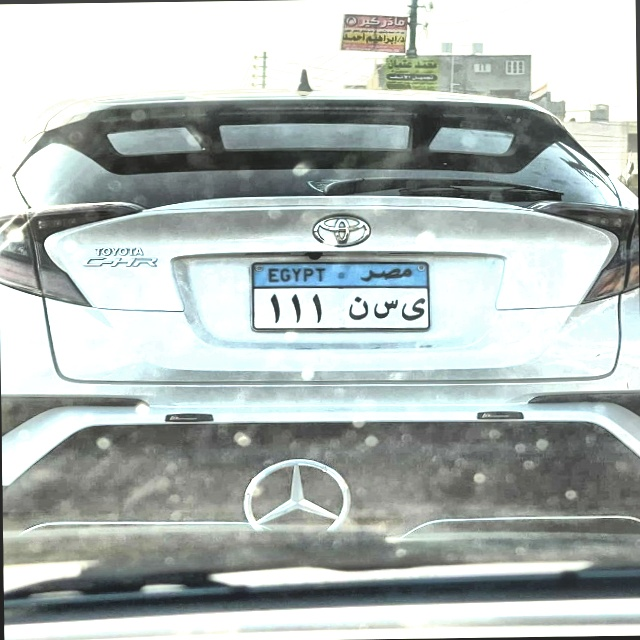License Plate: (248, 258, 433, 334)
